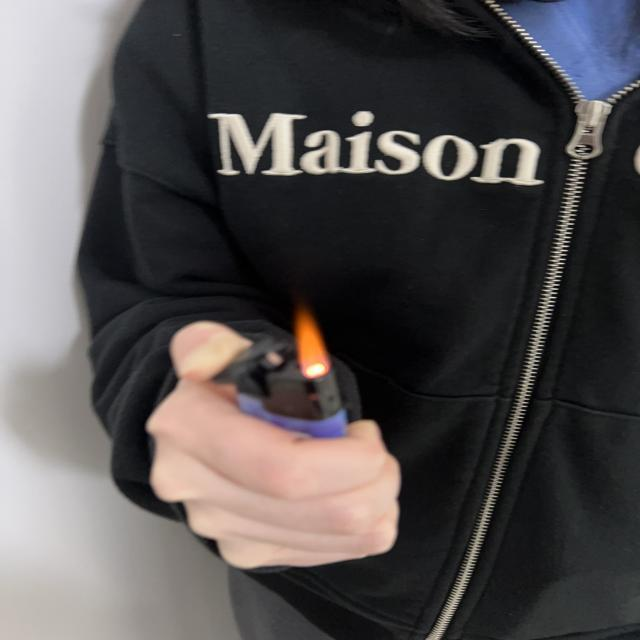fire: (293, 303, 333, 380)
